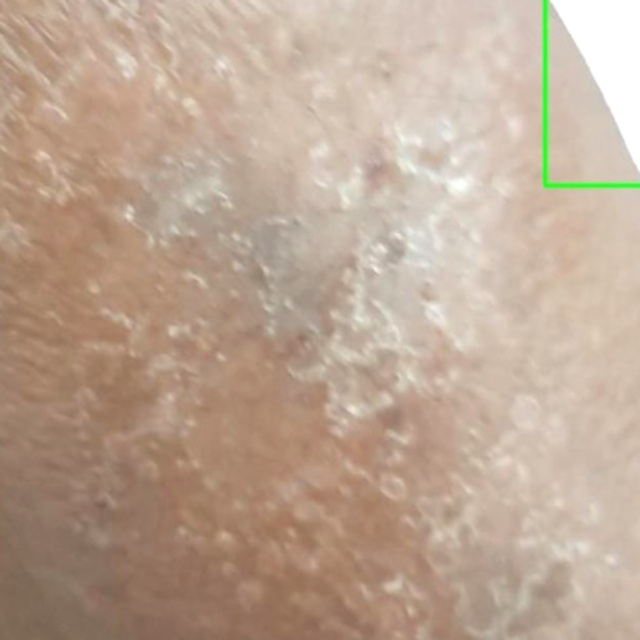Eczema: (545, 0, 639, 185)
